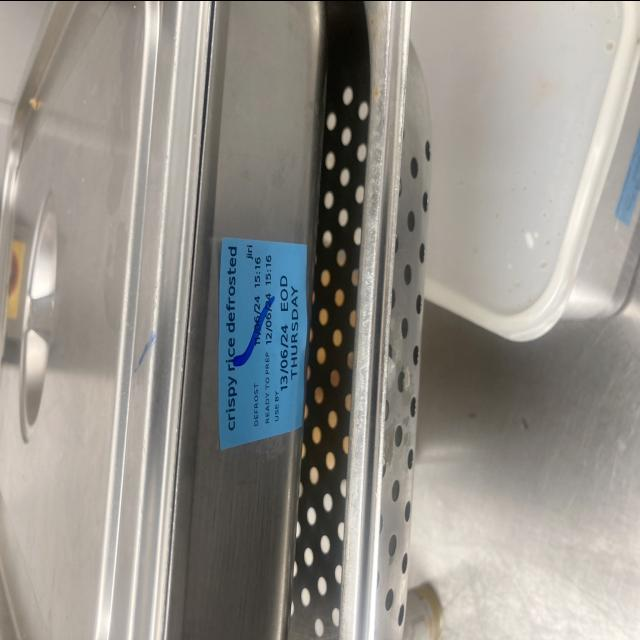product-labels: (219, 233, 313, 449)
